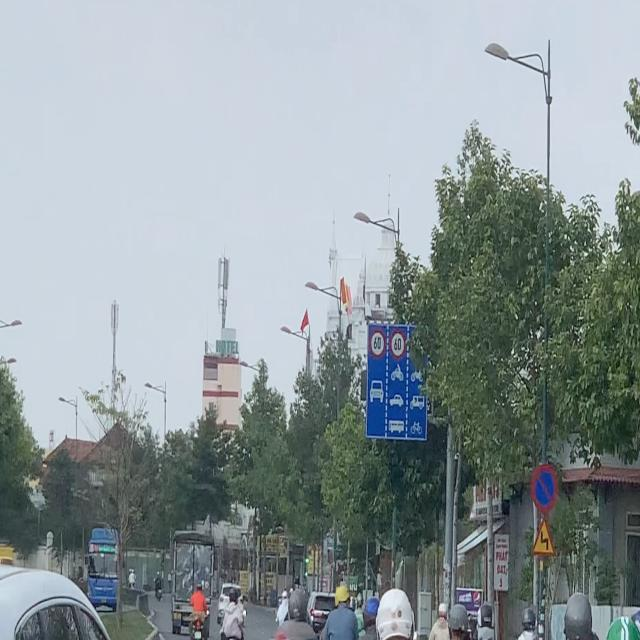Cam do: (530, 464, 558, 512)
Nguy hiem: (532, 517, 555, 556)
Toc do toi da: (389, 328, 406, 359), (369, 328, 386, 358)
